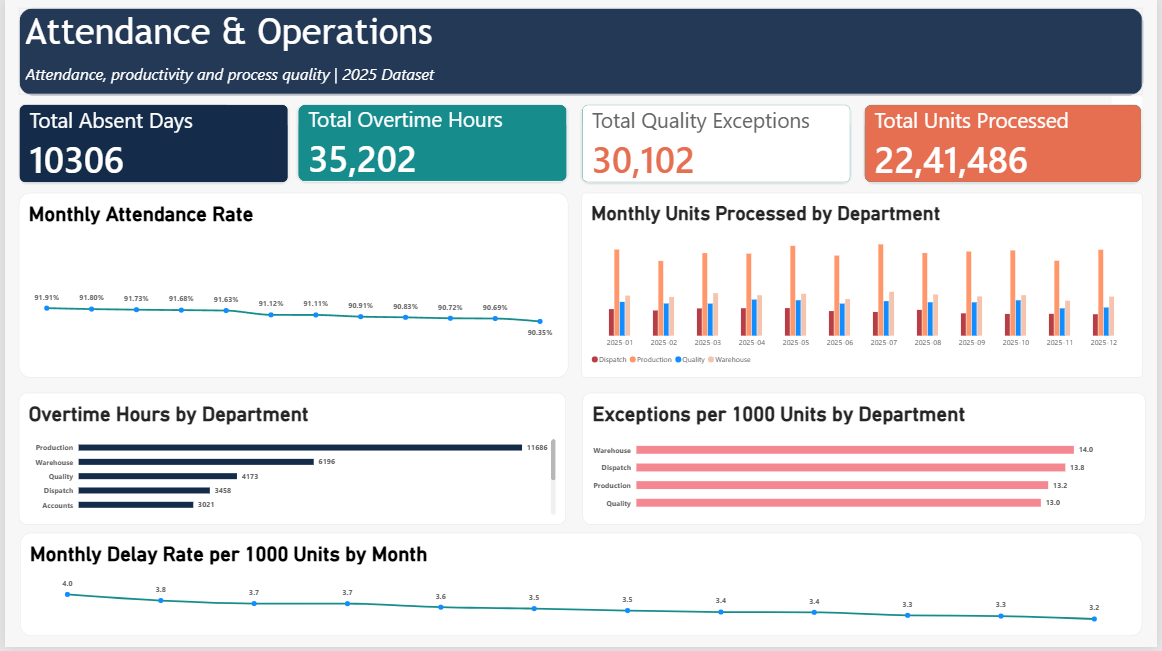

Layout of this report page (visuals, bound fields, positions):
{"tool":"powerbi","page":{"name":"Attendance & Operations","canvas":[1920,1080],"ordinal":1},"visuals":[{"type":"textbox","title":"Attendance & Operations","box":[22,14,1874,146],"z":0},{"type":"cardVisual","fields":{"Data":["Measure 2.Total Absent Days"]},"box":[22,176,450,132],"z":1000},{"type":"cardVisual","fields":{"Data":["Measures (2).Total Overtime Hours"]},"box":[488,176,450,130],"z":2000},{"type":"cardVisual","fields":{"Data":["Measures (2).Total Units Processed"]},"box":[1432,176,464,132],"z":3000},{"type":"cardVisual","fields":{"Data":["Measures (2).Total Quality Exceptions"]},"box":[960,176,450,132],"z":4000},{"type":"lineChart","title":"Monthly Attendance Rate","fields":{"Category":["vw_Attendance_Monthly.Month"],"Y":["Measures (2).Monthly Attendance Rate %"]},"box":[22,322,916,308],"z":5000},{"type":"clusteredBarChart","title":"Overtime Hours by Department","fields":{"Category":["vw_Attendance_Department.Department"],"Y":["Sum(vw_Attendance_Department.TotalOvertimeHours)"]},"box":[22,656,912,220],"z":6000},{"type":"clusteredColumnChart","title":"Monthly Units Processed by Department","fields":{"Category":["vw_Operations_MonthlyDepartment.Month"],"Series":["vw_Operations_MonthlyDepartment.Department"],"Y":["Sum(vw_Operations_MonthlyDepartment.TotalUnits)"]},"box":[960,322,936,308],"z":7000},{"type":"clusteredBarChart","fields":{"Category":["Monthly_Operations.Department"],"Y":["Employees.Exceptions per 1000 Units"]},"box":[962,656,938,220],"z":8000},{"type":"lineChart","fields":{"Category":["vw_Operations_MonthlyDepartment.Month"],"Y":["Measures (2).Delay Events per 1000 Units"]},"box":[26,890,1870,172],"z":9000}]}

Visuals, with their boxes in screenshot pixels (x1, y1, x2, y2), scaled from the page's 1920x1080 canvas onto the 1162x651 screenshot:
"Attendance & Operations" textbox: box(13, 8, 1147, 96)
cardVisual - Measure 2.Total Absent Days: box(13, 106, 286, 186)
cardVisual - Measures (2).Total Overtime Hours: box(295, 106, 568, 184)
cardVisual - Measures (2).Total Units Processed: box(867, 106, 1147, 186)
cardVisual - Measures (2).Total Quality Exceptions: box(581, 106, 853, 186)
"Monthly Attendance Rate" lineChart: box(13, 194, 568, 380)
"Overtime Hours by Department" clusteredBarChart: box(13, 395, 565, 528)
"Monthly Units Processed by Department" clusteredColumnChart: box(581, 194, 1147, 380)
clusteredBarChart - Monthly_Operations.Department x Employees.Exceptions per 1000 Units: box(582, 395, 1150, 528)
lineChart - vw_Operations_MonthlyDepartment.Month x Measures (2).Delay Events per 1000 Units: box(16, 536, 1147, 640)
